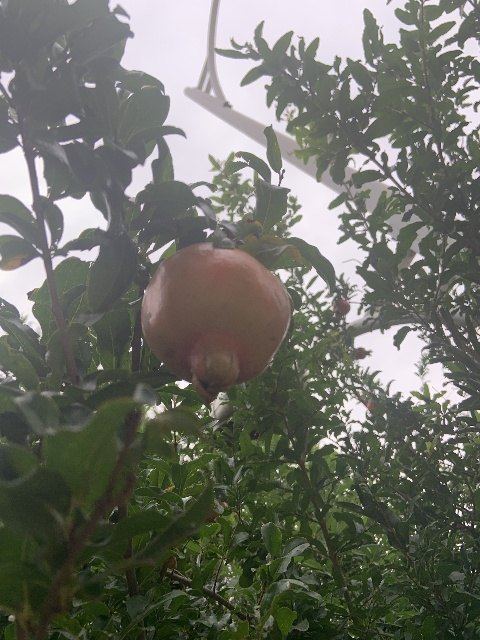ripe: (140, 243, 292, 400), (333, 299, 350, 316)
